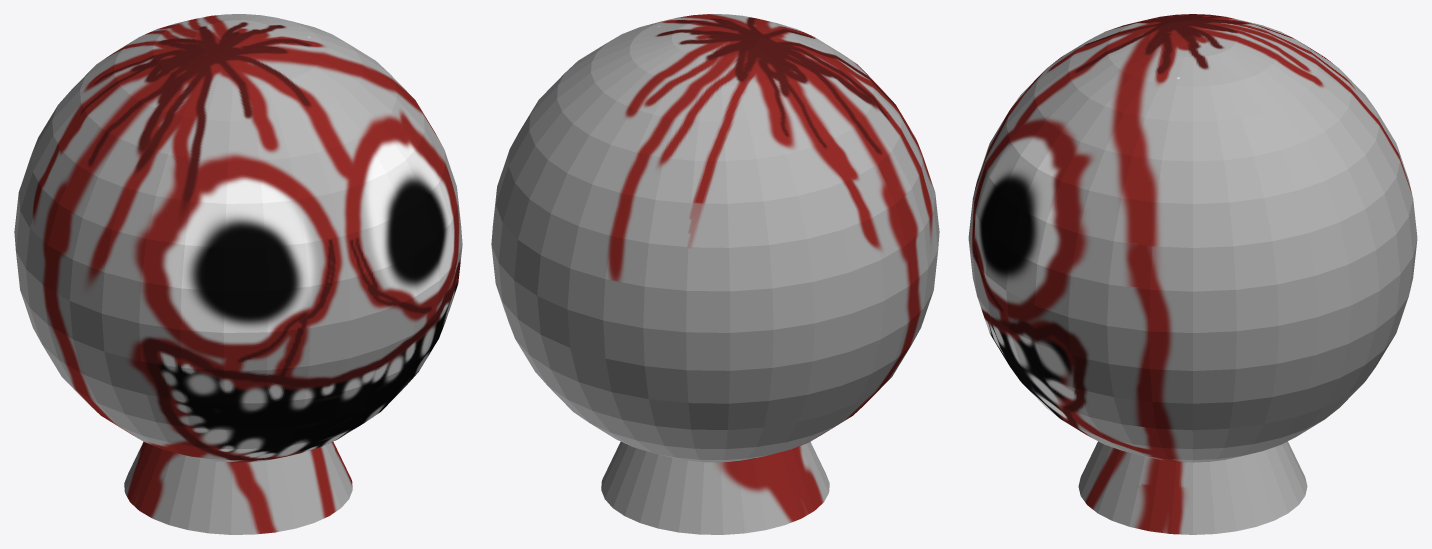
File: stalker.fbx
3 views of the same model, side by side, from view 1: azimuth 30°, elevation 25°; view 2: azimuth 150°, elevation 25°; view 3: azimuth 270°, elevation 25° (orthographic).
Visible parts, largest first — view 1: Sphere; view 2: Sphere; view 3: Sphere.
Boxes of the visible parts, <box> form: Sphere: <box>14,14,462,534</box>; Sphere: <box>491,14,939,534</box>; Sphere: <box>968,14,1417,534</box>.
Size of the model in its own units: 200 by 232 by 200.
Materials: 1 (1 with a texture image).
